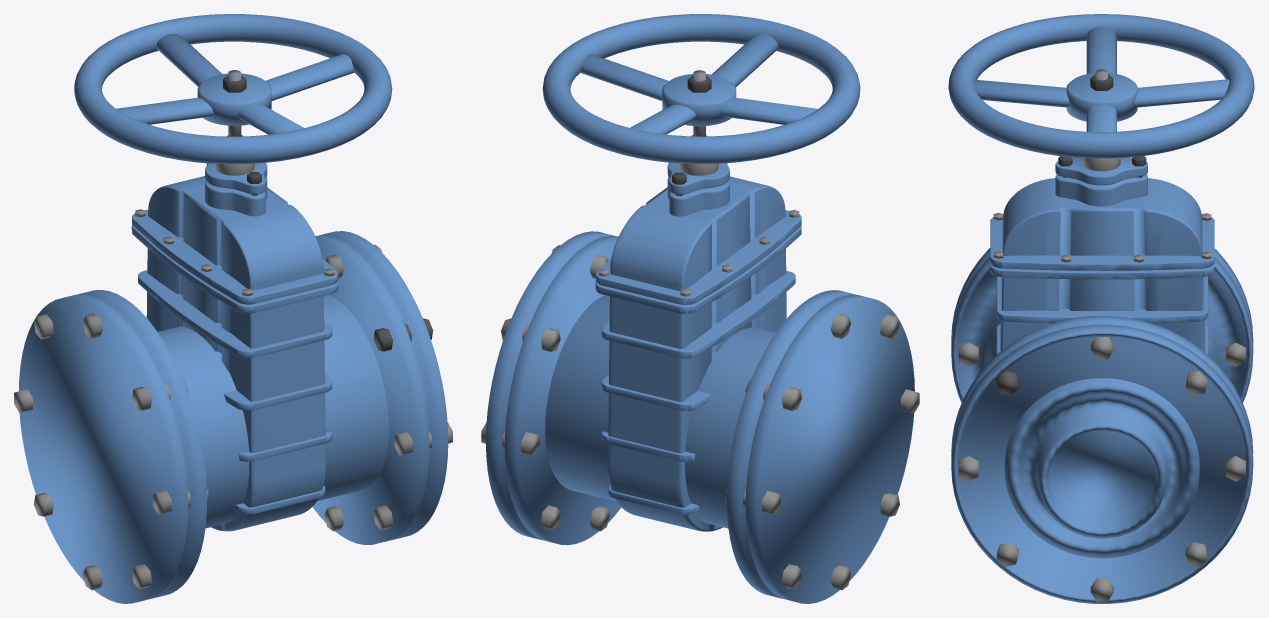
File: gate-valve.glb
3 views of the same model, side by side, from view 1: azimuth 30°, elevation 25°; view 2: azimuth 150°, elevation 25°; view 3: azimuth 270°, elevation 25° (orthographic). The views are drawn at different scales.
Parts seen in each view (by area): view 1: Obj3d66-1060089-4373-101, Obj3d66-1060089-4375-528, Obj3d66-1060089-4346-969, Obj3d66-1060089-4374-274, Obj3d66-1060089-4351-718, Obj3d66-1060089-4350-792, Obj3d66-1060089-4361-374, Obj3d66-1060089-4343-320, Obj3d66-1060089-4362-330, Obj3d66-1060089-4338-936, Obj3d66-1060089-4356-680; view 2: Obj3d66-1060089-4373-101, Obj3d66-1060089-4375-528, Obj3d66-1060089-4346-969, Obj3d66-1060089-4374-274, Obj3d66-1060089-4351-718, Obj3d66-1060089-4350-792, Obj3d66-1060089-4361-374, Obj3d66-1060089-4343-320, Obj3d66-1060089-4362-330, Obj3d66-1060089-4338-936, Obj3d66-1060089-4356-680; view 3: Obj3d66-1060089-4375-528, Obj3d66-1060089-4374-274, Obj3d66-1060089-4346-969, Obj3d66-1060089-4373-101, Obj3d66-1060089-4351-718, Obj3d66-1060089-4350-792, Obj3d66-1060089-4361-374, Obj3d66-1060089-4362-330, Obj3d66-1060089-4367-430, Obj3d66-1060089-4366-321, Obj3d66-1060089-4360-274, Obj3d66-1060089-4371-682 (+5 smaller).
Boxes of the visible parts, <box> form: Obj3d66-1060089-4373-101: <box>19,290,207,603</box>; Obj3d66-1060089-4375-528: <box>158,231,448,544</box>; Obj3d66-1060089-4346-969: <box>146,176,325,531</box>; Obj3d66-1060089-4374-274: <box>74,14,392,164</box>; Obj3d66-1060089-4351-718: <box>131,209,338,313</box>; Obj3d66-1060089-4350-792: <box>138,270,332,358</box>; Obj3d66-1060089-4361-374: <box>205,177,267,216</box>; Obj3d66-1060089-4343-320: <box>223,374,332,410</box>; Obj3d66-1060089-4362-330: <box>205,163,267,194</box>; Obj3d66-1060089-4338-936: <box>239,431,332,461</box>; Obj3d66-1060089-4356-680: <box>233,485,325,514</box>; Obj3d66-1060089-4373-101: <box>726,290,914,603</box>; Obj3d66-1060089-4375-528: <box>486,231,776,545</box>; Obj3d66-1060089-4346-969: <box>608,176,786,531</box>; Obj3d66-1060089-4374-274: <box>542,14,860,164</box>; Obj3d66-1060089-4351-718: <box>595,210,801,313</box>; Obj3d66-1060089-4350-792: <box>601,270,795,358</box>; Obj3d66-1060089-4361-374: <box>667,177,729,216</box>; Obj3d66-1060089-4343-320: <box>601,374,710,410</box>; Obj3d66-1060089-4362-330: <box>667,162,729,194</box>; Obj3d66-1060089-4338-936: <box>601,431,695,461</box>; Obj3d66-1060089-4356-680: <box>608,485,700,514</box>; Obj3d66-1060089-4375-528: <box>951,316,1253,603</box>; Obj3d66-1060089-4374-274: <box>948,14,1254,158</box>; Obj3d66-1060089-4346-969: <box>1000,178,1204,351</box>; Obj3d66-1060089-4373-101: <box>951,248,1253,402</box>; Obj3d66-1060089-4351-718: <box>990,217,1214,279</box>; Obj3d66-1060089-4350-792: <box>996,276,1208,323</box>; Obj3d66-1060089-4361-374: <box>1055,174,1147,206</box>; Obj3d66-1060089-4362-330: <box>1055,157,1147,185</box>; Obj3d66-1060089-4367-430: <box>1090,578,1113,601</box>; Obj3d66-1060089-4366-321: <box>1083,158,1120,171</box>; Obj3d66-1060089-4360-274: <box>996,542,1018,566</box>; Obj3d66-1060089-4371-682: <box>1185,542,1207,566</box>.
Size of the model in its own units: 3465 by 5198 by 3079.
